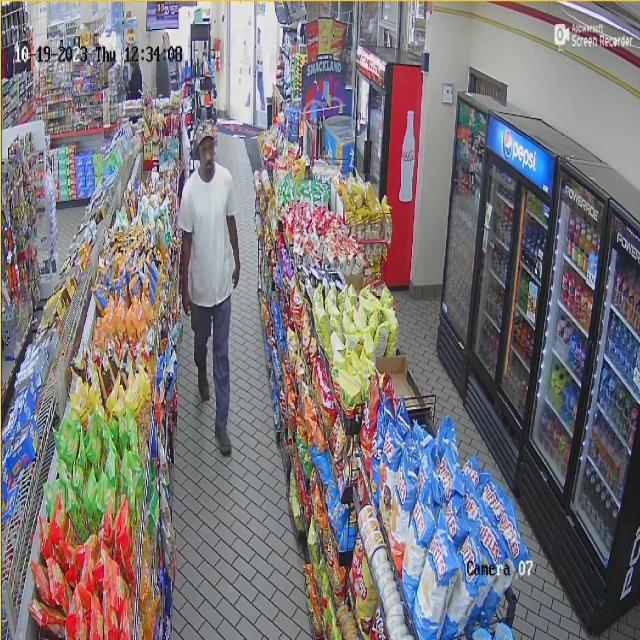Normal: (177, 109, 246, 460)
